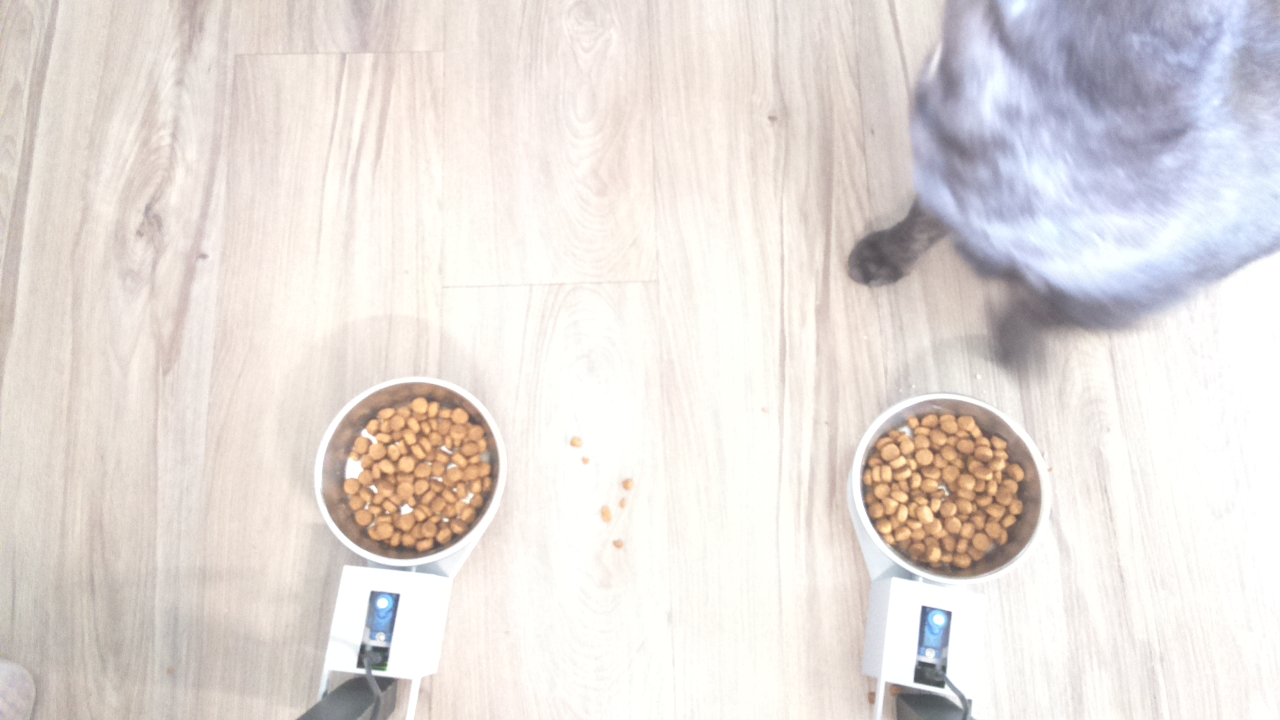open_bowl: (850, 386, 1050, 589), (308, 370, 507, 570)
